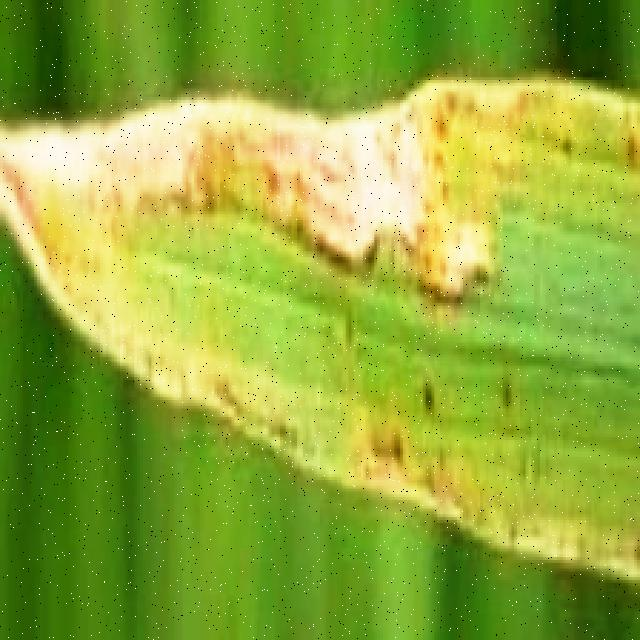unhealth: (2, 76, 640, 586)
